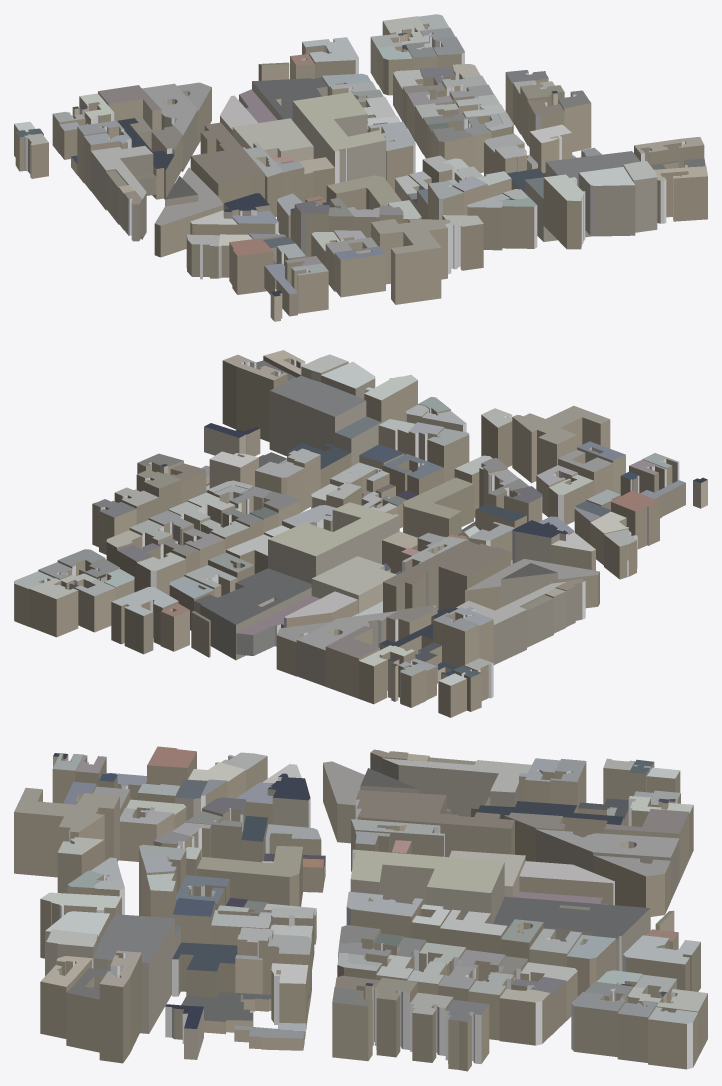
3 renders of one model, top to bottom at view 1: azimuth 30°, elevation 25°; view 2: azimuth 150°, elevation 25°; view 3: azimuth 270°, elevation 25°, orthographic. The views are drawn at different scales.
Visible parts, largest first — view 1: tuile; view 2: tuile; view 3: tuile.
Part boxes in pixels (<box>): tuile: <box>14,14,707,321</box>; tuile: <box>14,350,707,717</box>; tuile: <box>14,746,707,1071</box>.
Bounding box in the file's own units: 265 × 45.18 × 280.
